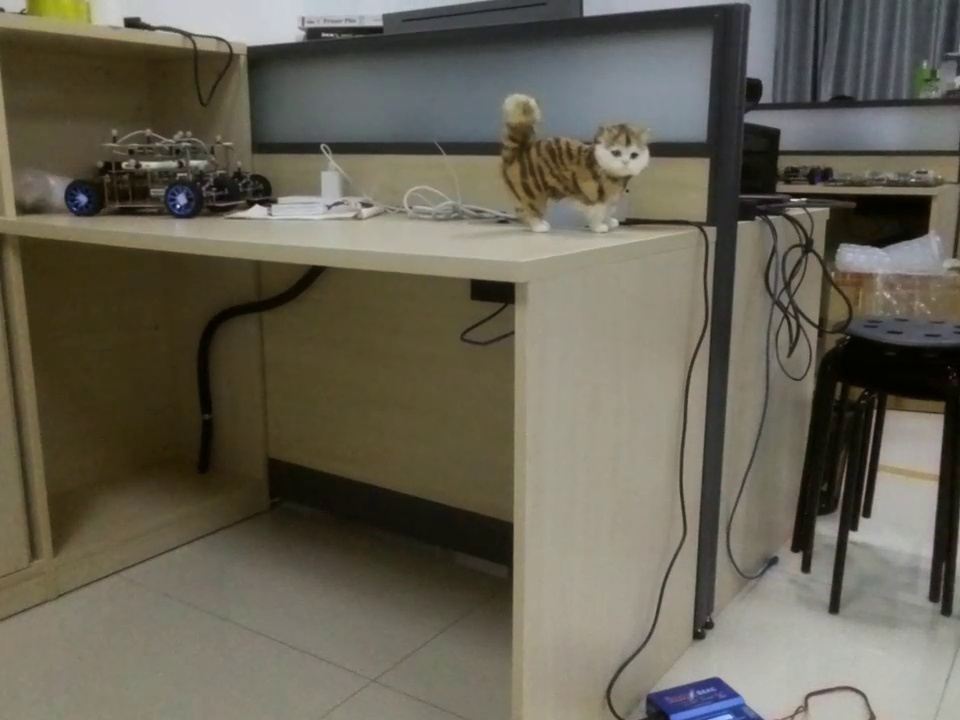cat: (488, 81, 667, 243)
